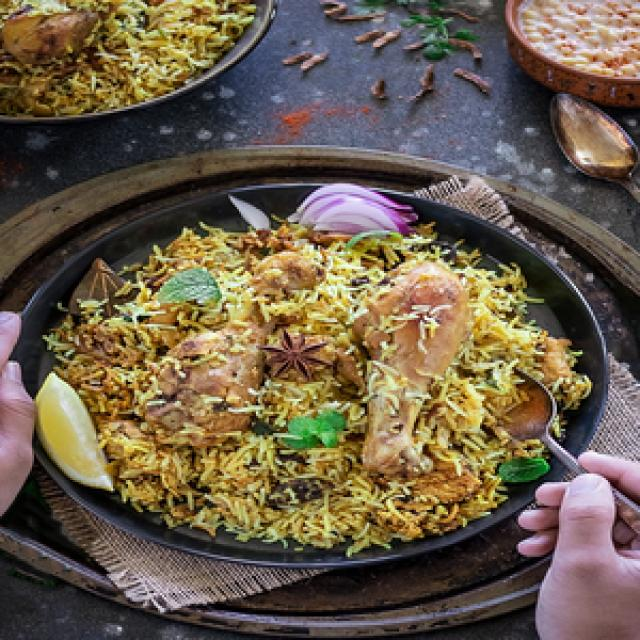chicken biriyani: (47, 204, 599, 565)
